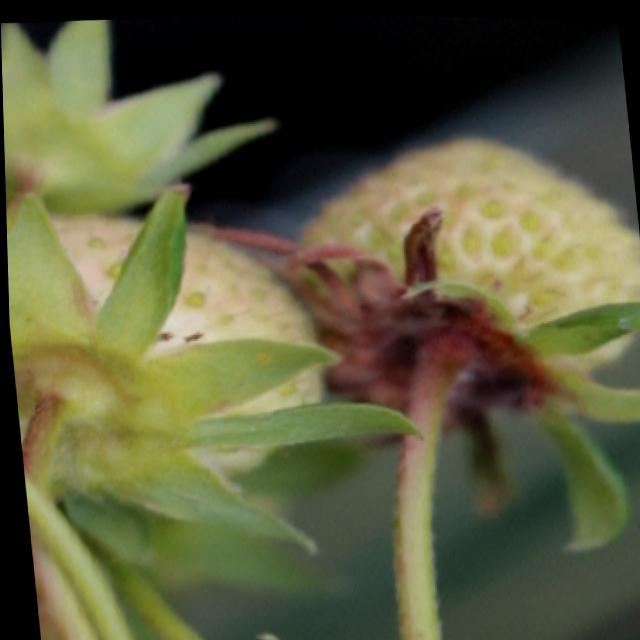Gray Mold: (209, 202, 568, 439)
